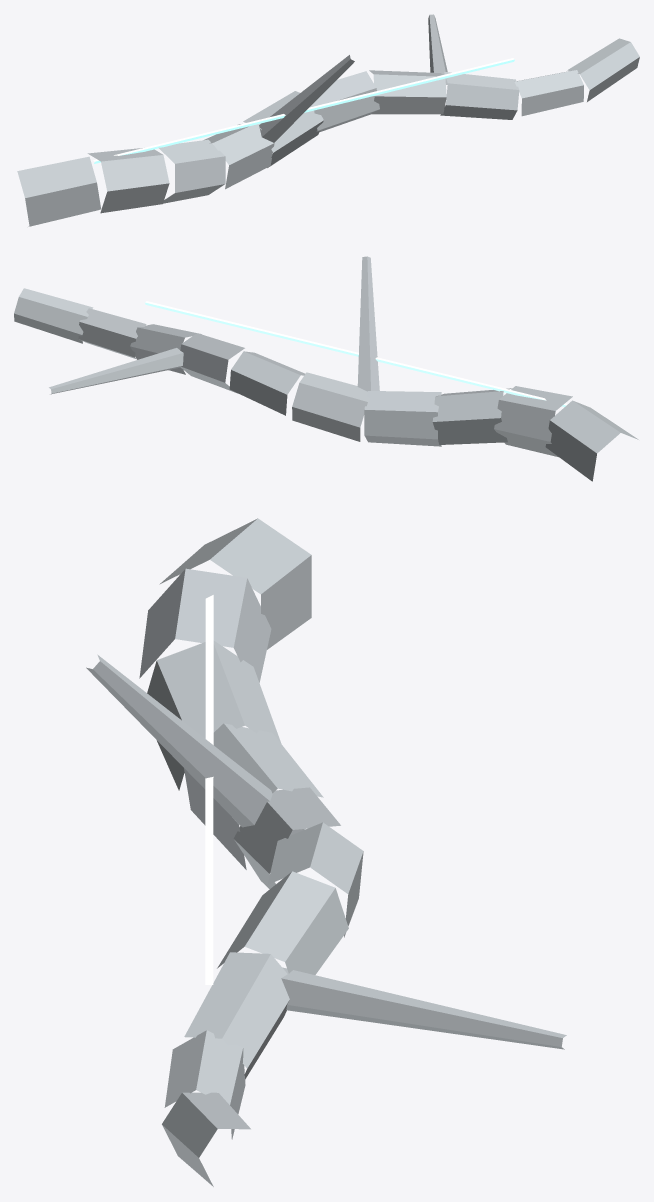
Rendered from driftwood.glb.
The picture shows the model from 3 angles, top to bottom: view 1: azimuth 30°, elevation 25°; view 2: azimuth 150°, elevation 25°; view 3: azimuth 270°, elevation 25°; orthographic projection. The views are drawn at different scales.
Visible parts, largest first — view 1: driftwood; view 2: driftwood; view 3: driftwood.
Part boxes in pixels (x1,y1,x2,y2): driftwood: (17, 14, 639, 226); driftwood: (14, 256, 638, 481); driftwood: (86, 518, 566, 1186).
Bounding box in the file's own units: 1.84 × 0.3924 × 0.6268.
